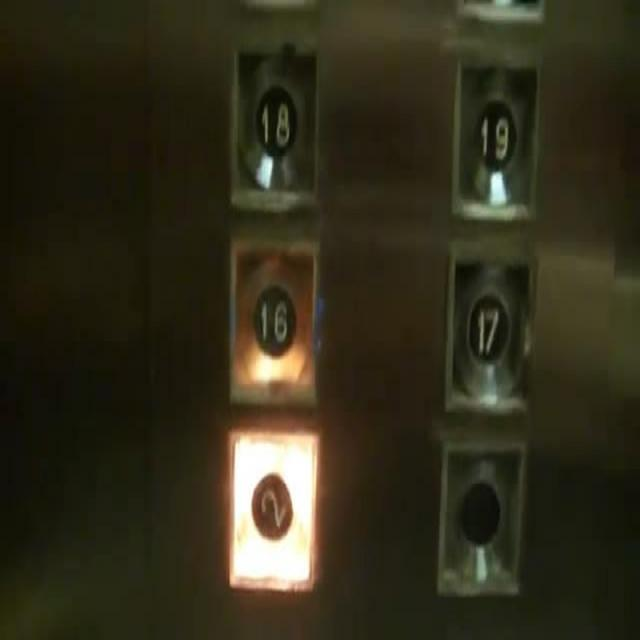16: (223, 228, 320, 403)
17: (441, 234, 535, 418)
18: (227, 36, 321, 212)
19: (449, 49, 541, 224)
2: (226, 424, 320, 597)
empty: (437, 438, 527, 598)
